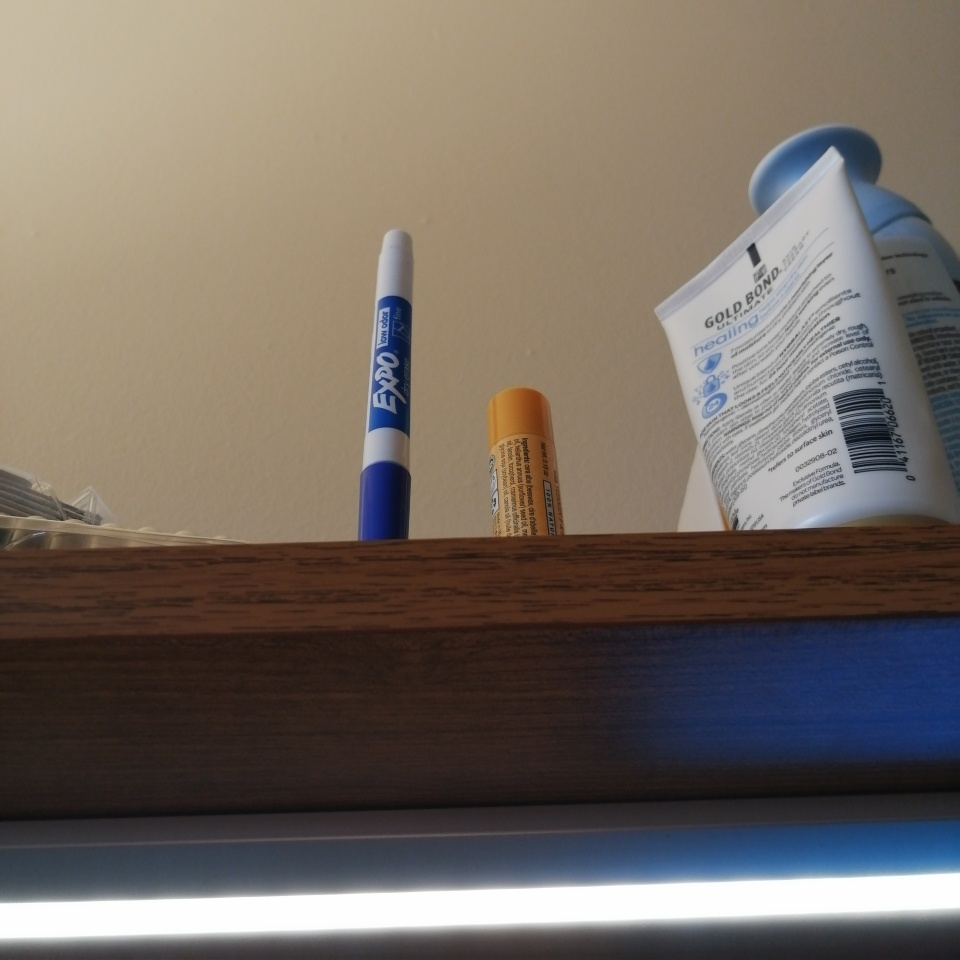chapstick: (488, 387, 565, 537)
